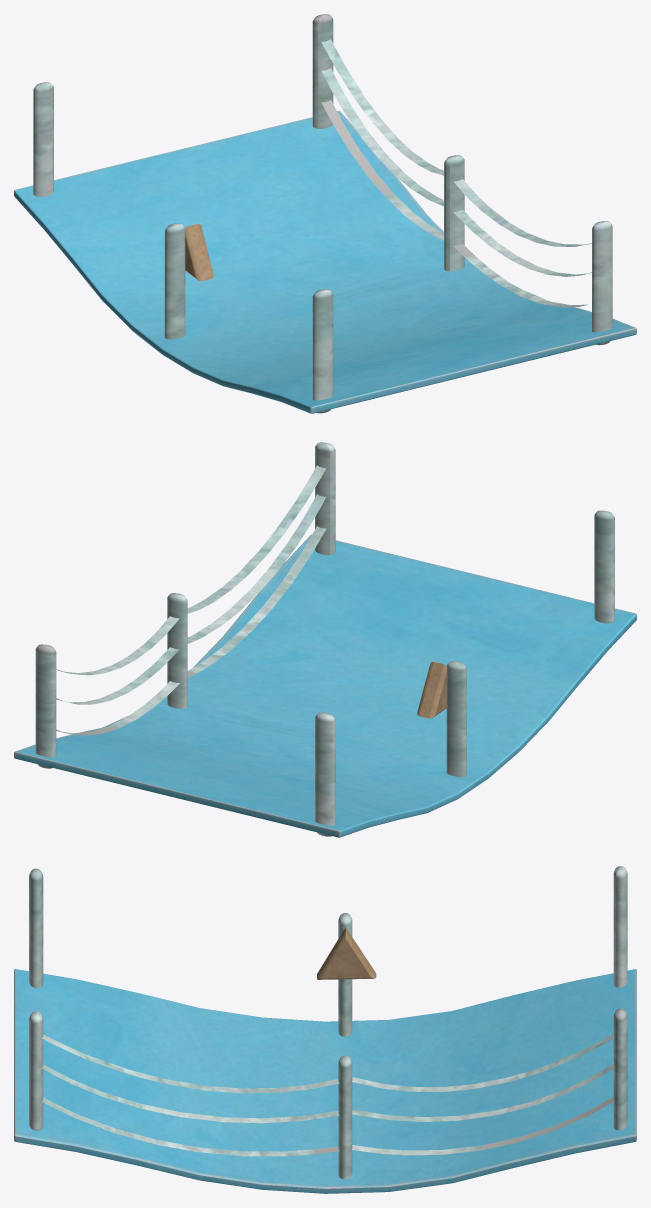
File: Niflheim_Forge_Ice_Bridge.glb
The picture shows the model from 3 angles, top to bottom: view 1: azimuth 30°, elevation 25°; view 2: azimuth 150°, elevation 25°; view 3: azimuth 270°, elevation 25°; orthographic projection. The views are drawn at different scales.
Parts seen in each view (by area): view 1: Ice bridge without stars, open forge half; view 2: Ice bridge without stars, open forge half; view 3: Ice bridge without stars, open forge half.
Part boxes in pixels (x1,y1,x2,y2): Ice bridge without stars, open forge half: (14,14,636,413); Ice bridge without stars, open forge half: (14,442,636,837); Ice bridge without stars, open forge half: (14,866,636,1193).
Size of the model in its own units: 7.6 by 3.71 by 12.
1 material, 1 textured.
